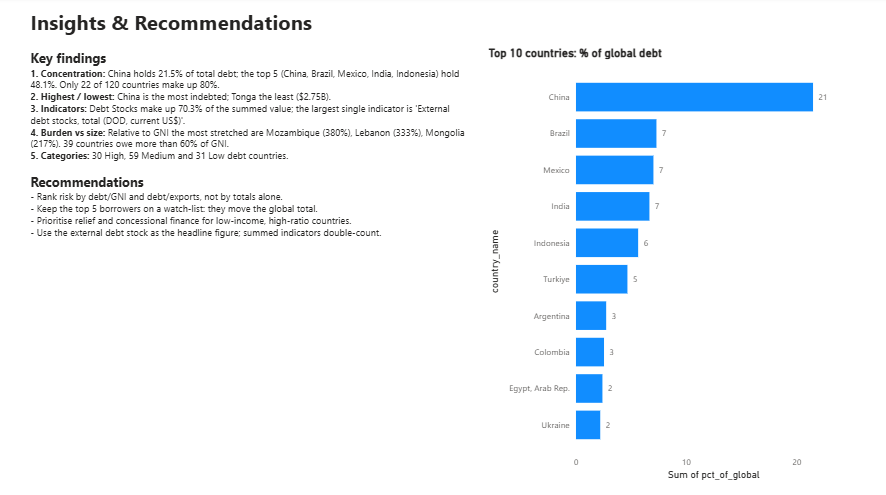

This screenshot's page, from the dashboard's own definition file:
{"tool":"powerbi","page":{"name":"Insights","canvas":[1280,720],"ordinal":2},"visuals":[{"type":"textbox","box":[40,10,900,55],"z":0},{"type":"textbox","box":[40,70,640,630],"z":1},{"type":"clusteredBarChart","title":"Top 10 countries: % of global debt","fields":{"Category":["country_debt_summary.country_name"],"Y":["Sum(country_debt_summary.pct_of_global)"]},"box":[700,70,540,630],"z":2}]}

Visuals, with their boxes in screenshot pixels (x1, y1, x2, y2), scaled from the page's 1280x720 canvas onto the 886x495 screenshot:
textbox: 28:7:651:45
textbox: 28:48:471:481
"Top 10 countries: % of global debt" clusteredBarChart: 485:48:858:481
